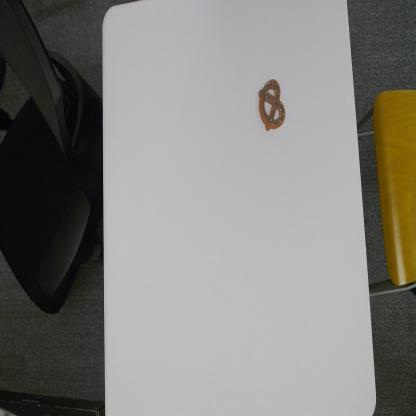Pretzel: (257, 74, 287, 136)
